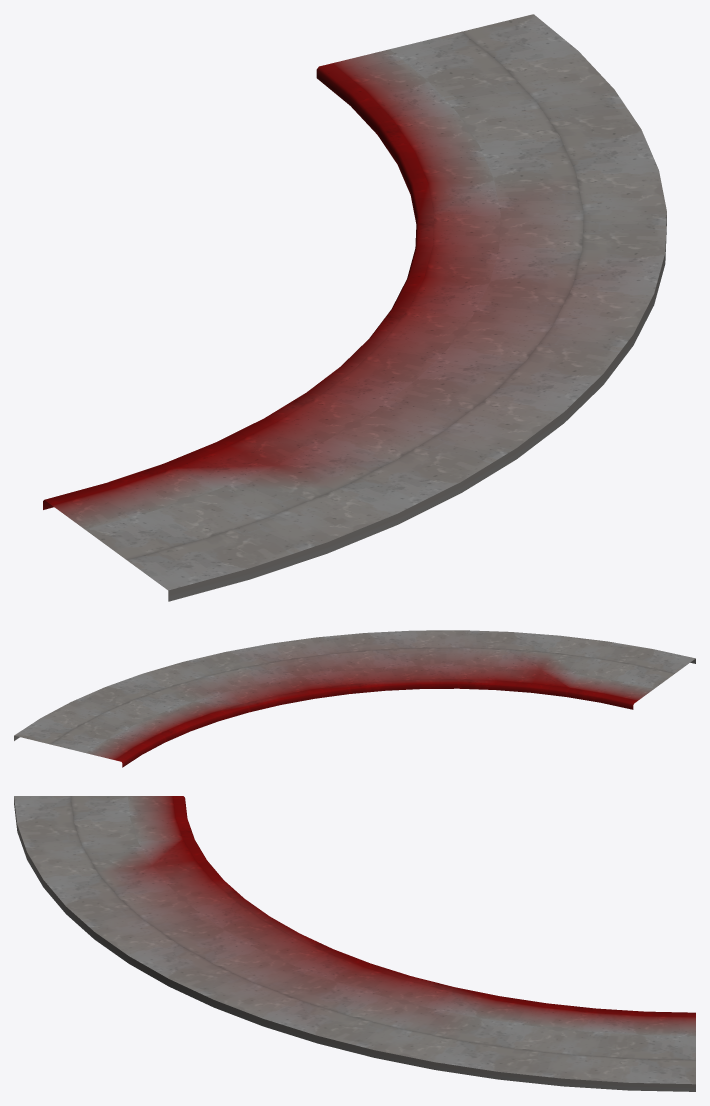
The model's file is street_curve_2lane_curb.glb.
The picture shows the model from 3 angles, top to bottom: view 1: azimuth 30°, elevation 25°; view 2: azimuth 150°, elevation 25°; view 3: azimuth 270°, elevation 25°; orthographic projection. The views are drawn at different scales.
Visible parts, largest first — view 1: Street_Curve_2Lane_Curb; view 2: Street_Curve_2Lane_Curb; view 3: Street_Curve_2Lane_Curb.
Boxes of the visible parts, x1=… form: Street_Curve_2Lane_Curb: x1=43, y1=14, x2=666, y2=601; Street_Curve_2Lane_Curb: x1=14, y1=630, x2=695, y2=767; Street_Curve_2Lane_Curb: x1=14, y1=796, x2=695, y2=1091.
Size of the model in its own units: 12 by 0.15 by 12.
Materials: 1 (1 with a texture image).
